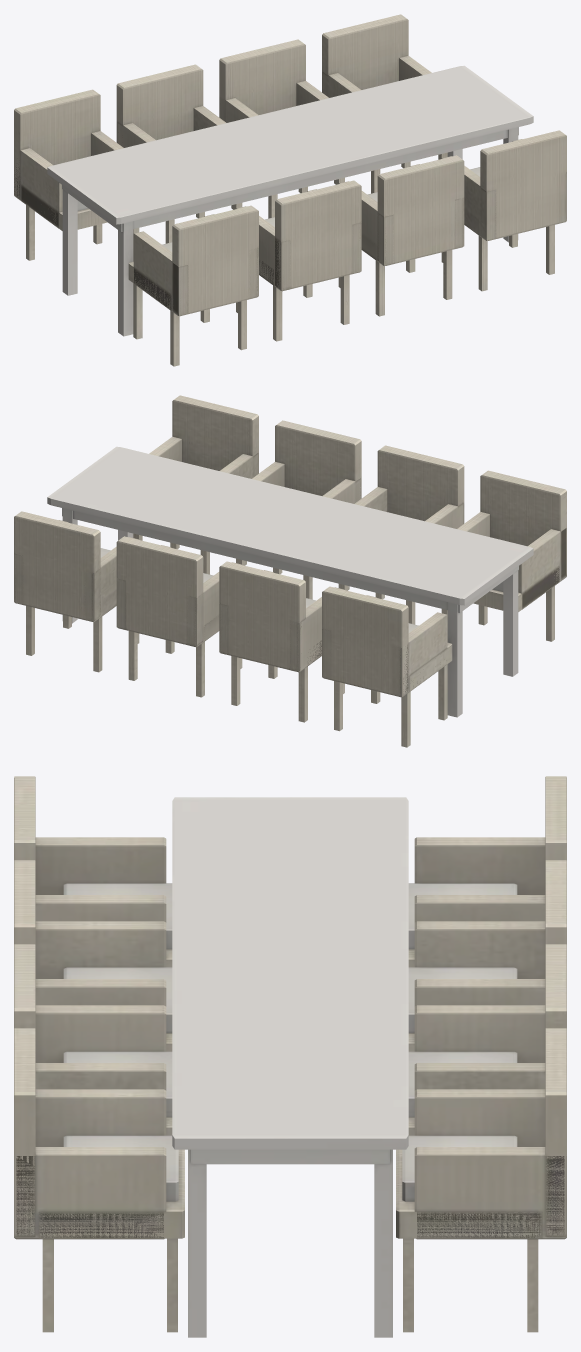
File: suite_dining_set.glb
The picture shows the model from 3 angles, top to bottom: view 1: azimuth 30°, elevation 25°; view 2: azimuth 150°, elevation 25°; view 3: azimuth 270°, elevation 25°; orthographic projection. The views are drawn at different scales.
Parts seen in each view (by area): view 1: suite_dining_set; view 2: suite_dining_set; view 3: suite_dining_set.
Boxes of the visible parts, x1,y1,x2,y2 form: suite_dining_set: (14,14,566,366); suite_dining_set: (14,395,566,747); suite_dining_set: (14,776,566,1337).
Size of the model in its own units: 2.6 by 0.8599 by 1.78.
1 material, 1 textured.
